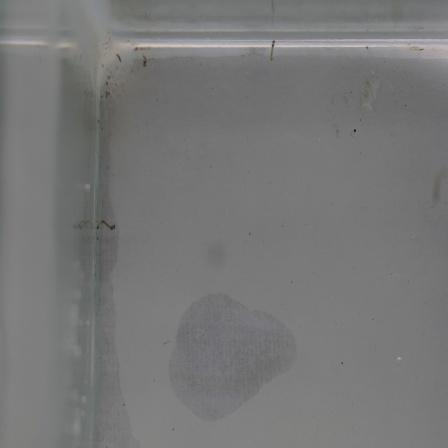Jentik-Nyamuk: (95, 216, 118, 235), (267, 34, 277, 64)
